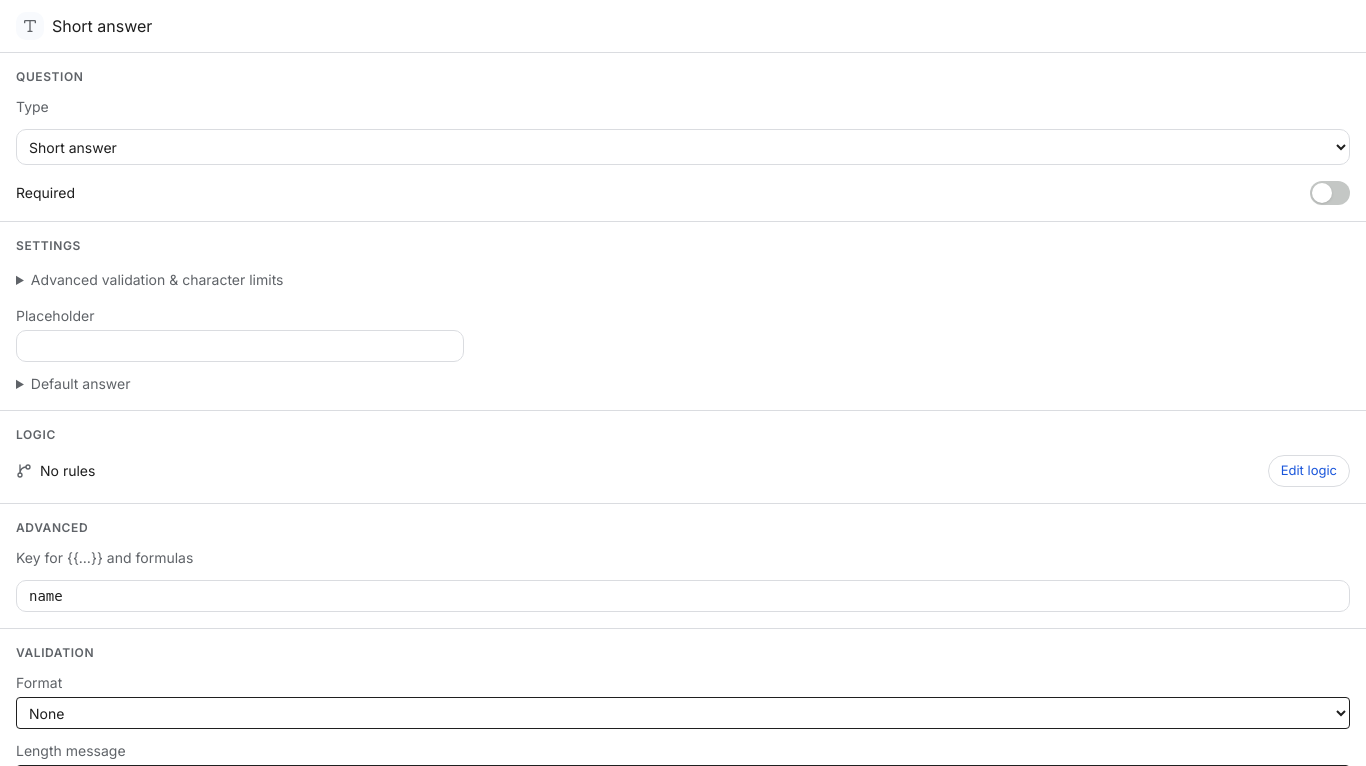
Test: SettingsSidebar › counts logic rules and opens the logic editor in a side sheet
Expected: the text "No rules" is shown, [16,461,95,481]
Click the button "Edit logic": coordinates (1309, 471) [1268,455,1350,487]
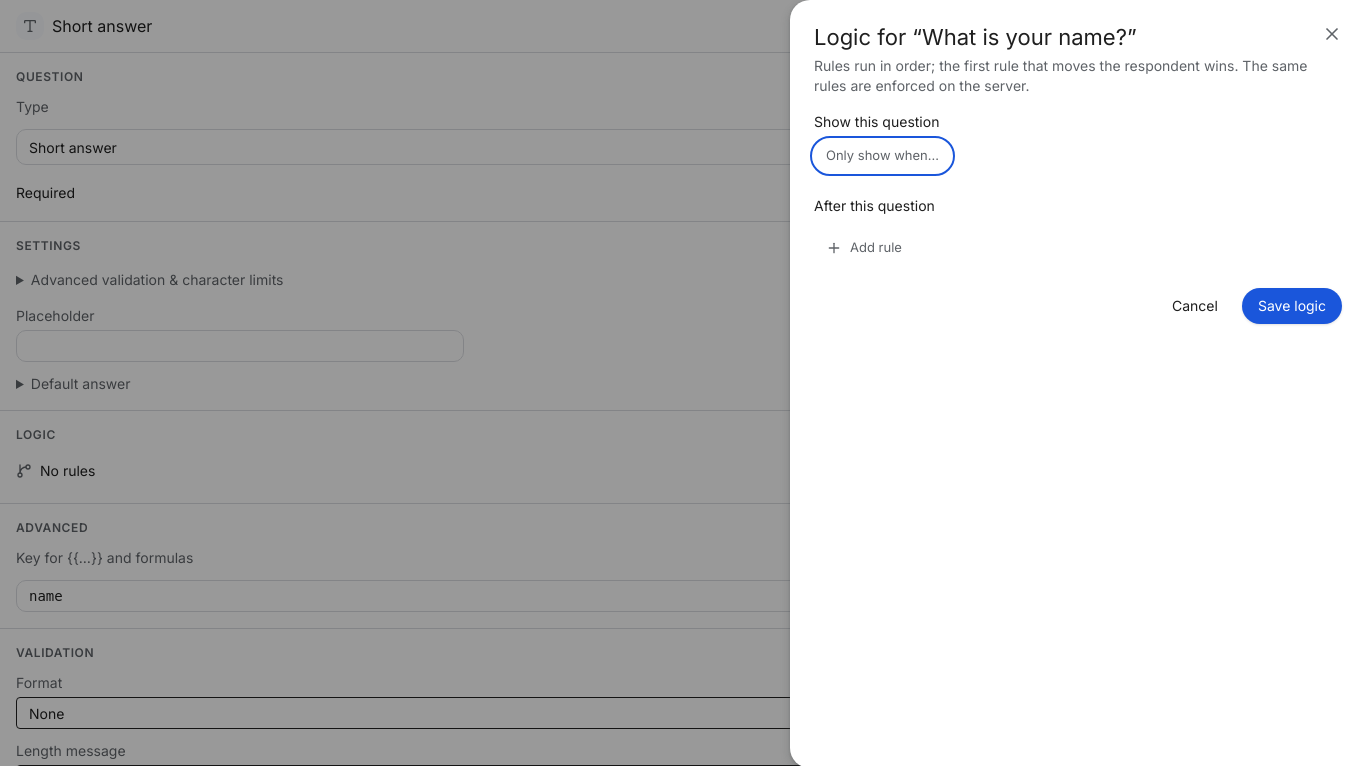
Expected: the button "Only show when…" is shown, [814,140,951,172]
